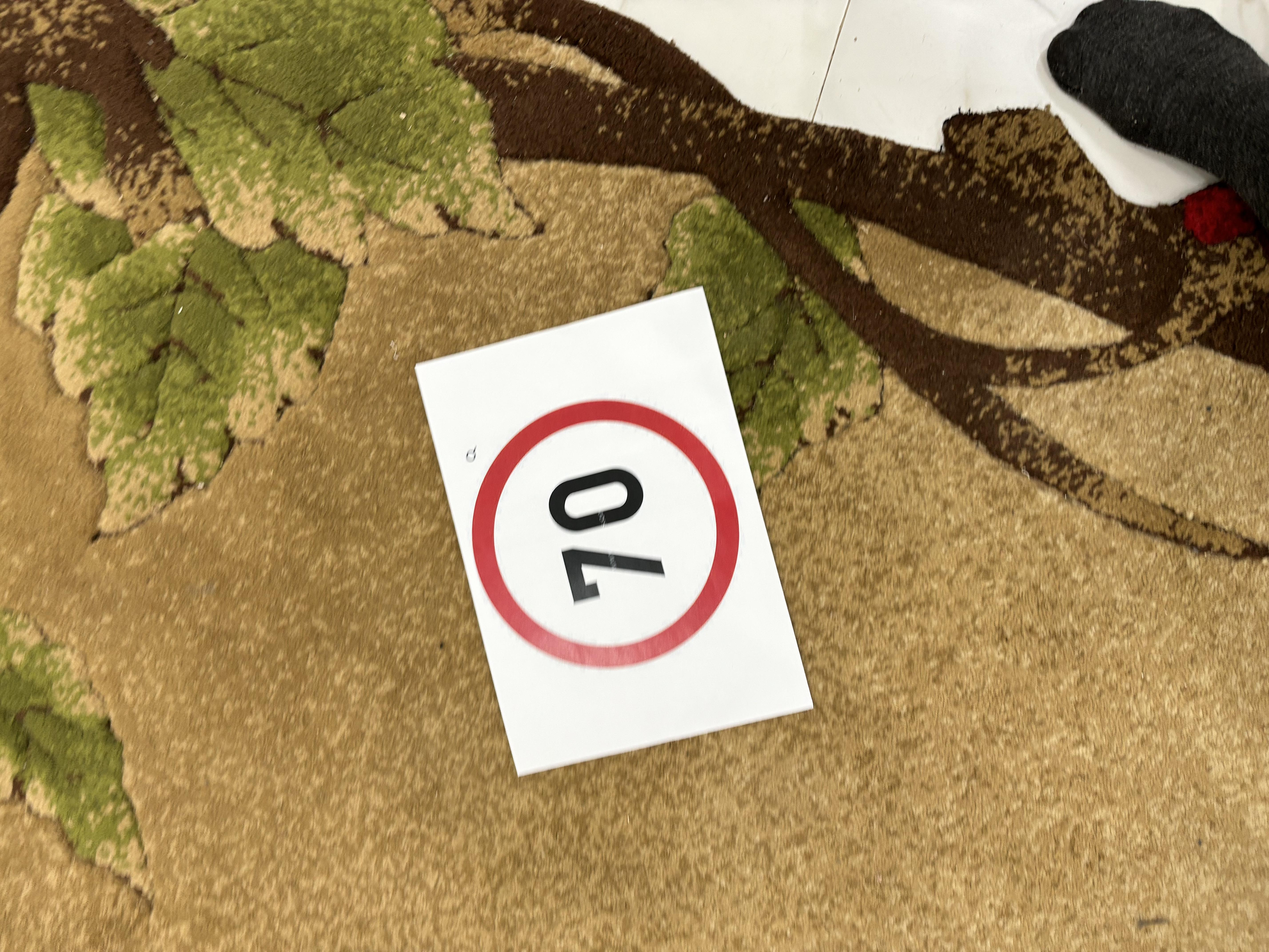70-Speed: (468, 394, 742, 670)
